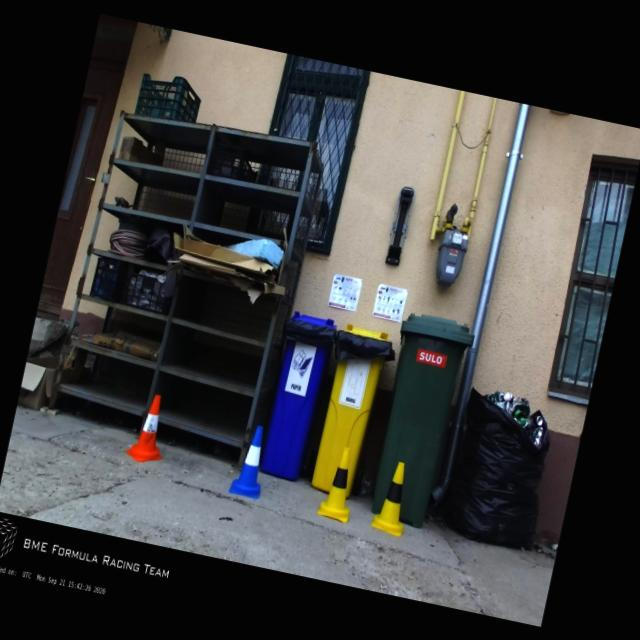blue_cone: (228, 422, 272, 499)
orange_cone: (123, 391, 175, 466)
yellow_cone: (369, 458, 416, 536), (316, 444, 362, 523)
